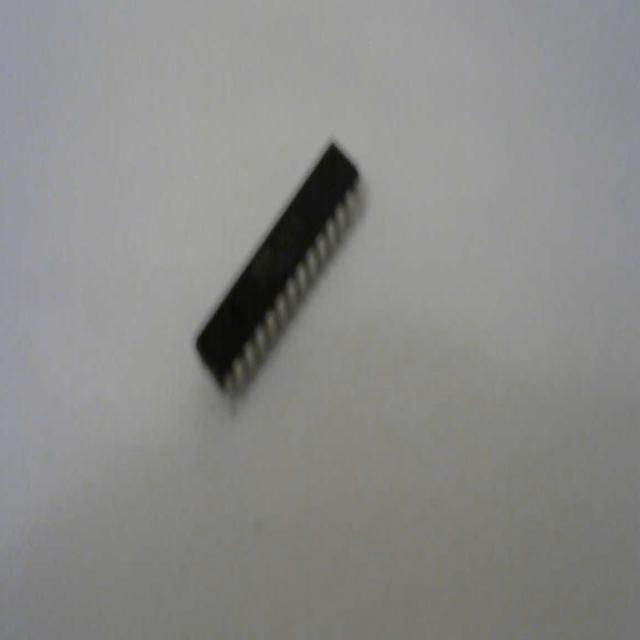atmega: (192, 134, 368, 404)
